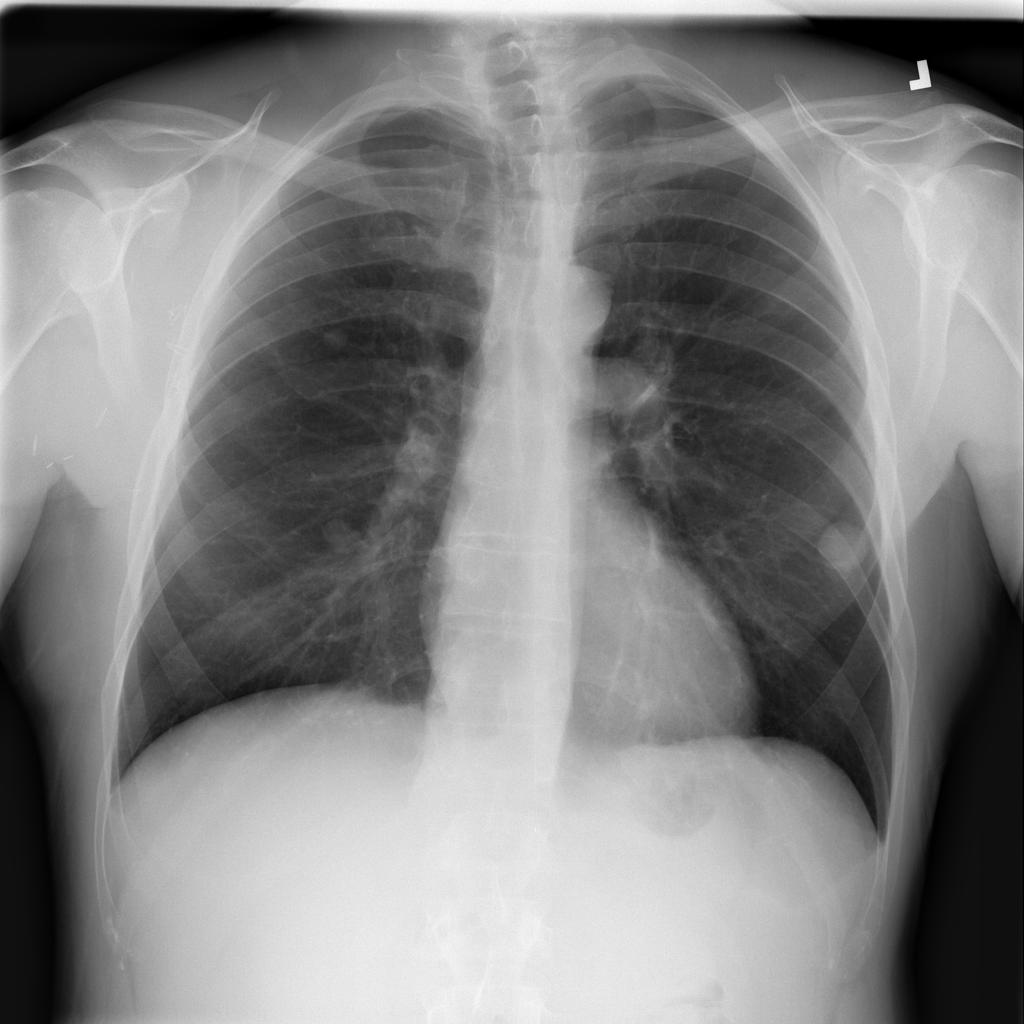nodule: (804, 508, 882, 587), (306, 500, 377, 571), (308, 316, 363, 361)
